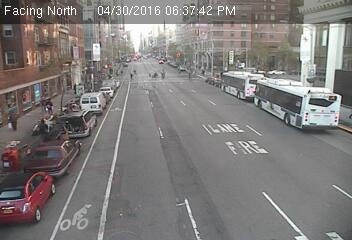neg: (305, 32, 336, 73), (197, 28, 223, 63), (66, 83, 88, 113), (172, 172, 194, 202), (75, 198, 96, 227), (8, 41, 29, 68), (79, 44, 99, 71), (272, 83, 291, 109), (121, 113, 139, 138), (204, 119, 222, 144), (99, 159, 117, 183), (256, 139, 272, 160), (258, 32, 273, 52), (126, 31, 139, 48)
pos: (4, 109, 21, 131), (157, 66, 167, 80), (43, 98, 53, 111), (127, 72, 134, 81)
